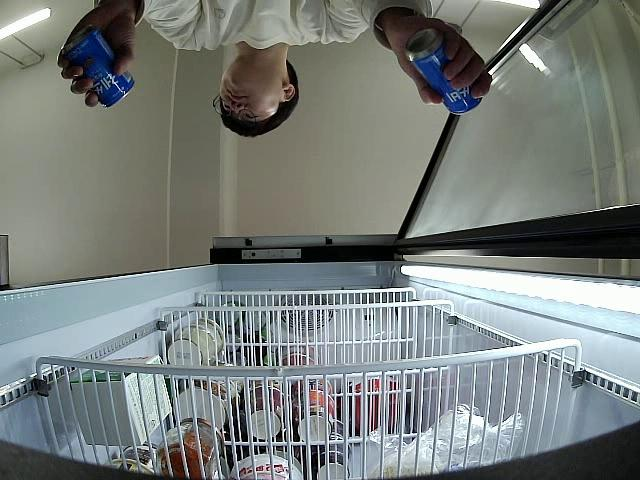00_hand: (387, 14, 493, 106), (57, 0, 137, 109)
15_letsbe: (404, 26, 481, 114), (61, 25, 135, 109)
